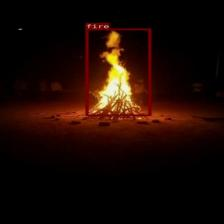fire: (86, 28, 150, 116)
